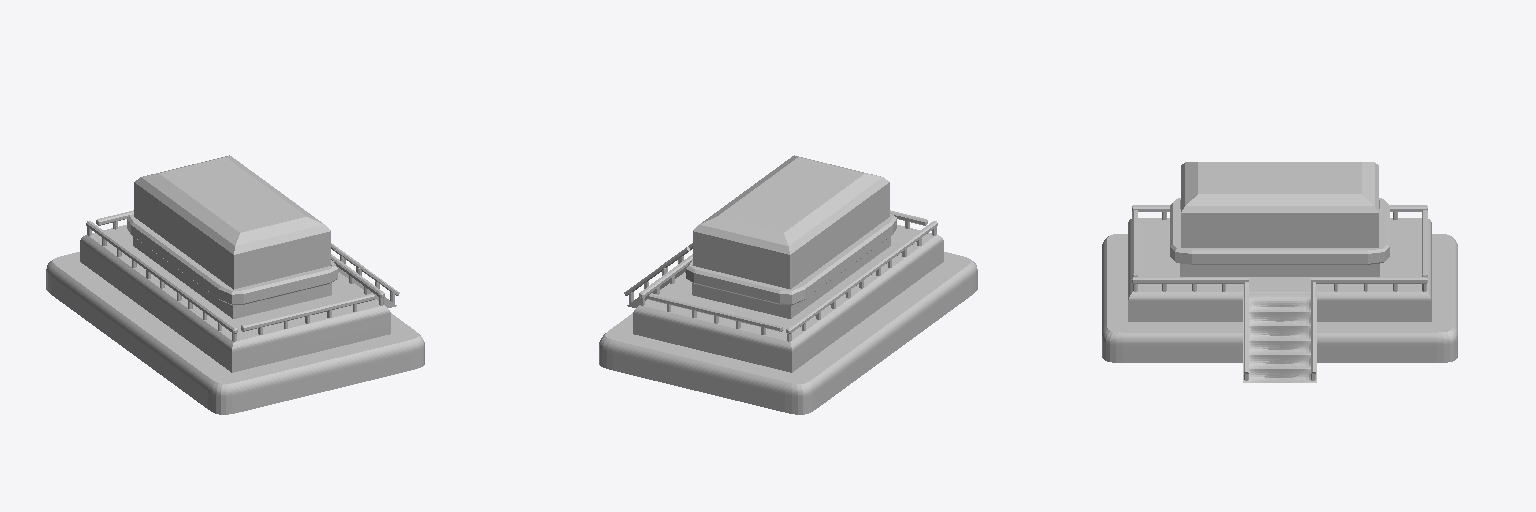
Rendered from Middle Base.obj.
3 renders of one model, left to right at view 1: azimuth 30°, elevation 25°; view 2: azimuth 150°, elevation 25°; view 3: azimuth 270°, elevation 25°, orthographic.
Parts seen in each view (by area): view 1: Base MIddle_Thing, MIddle_Thing pCube1, MIddle_Thing Railing1; view 2: Base MIddle_Thing, MIddle_Thing pCube1, MIddle_Thing Railing1; view 3: Base MIddle_Thing, MIddle_Thing pCube1, MIddle_Thing Stairs1, MIddle_Thing Railing1.
Boxes of the visible parts, <box> form: Base MIddle_Thing: <box>46,214,424,414</box>; MIddle_Thing pCube1: <box>134,155,330,289</box>; MIddle_Thing Railing1: <box>86,210,399,341</box>; Base MIddle_Thing: <box>599,214,977,414</box>; MIddle_Thing pCube1: <box>693,155,889,289</box>; MIddle_Thing Railing1: <box>624,210,937,341</box>; Base MIddle_Thing: <box>1102,198,1457,362</box>; MIddle_Thing pCube1: <box>1181,162,1378,247</box>; MIddle_Thing Stairs1: <box>1243,293,1316,382</box>; MIddle_Thing Railing1: <box>1132,205,1427,380</box>.
Size of the model in its own units: 9.85 by 4.98 by 12.06.